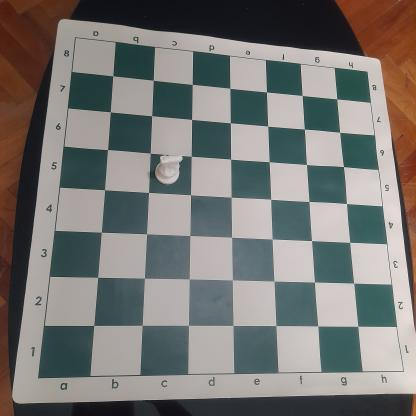white-knight: (154, 153, 183, 186)
